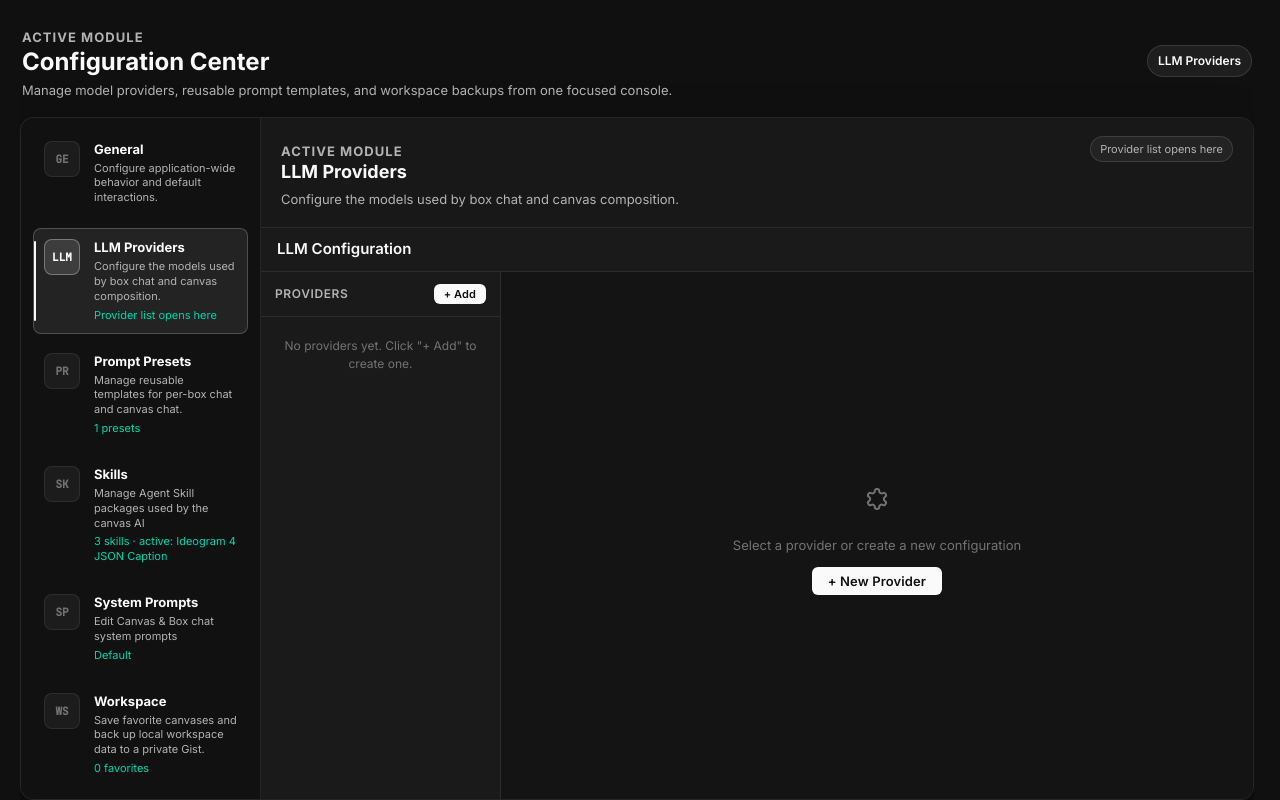
Test case: SettingsPage 配置中心 › 点击 Workspace 模块后展示 Workspace Backup 区域，并在缺少 token 时禁用备份和恢复
Click the button "Workspace".
click(140, 734)  # box [33,682,248,787]
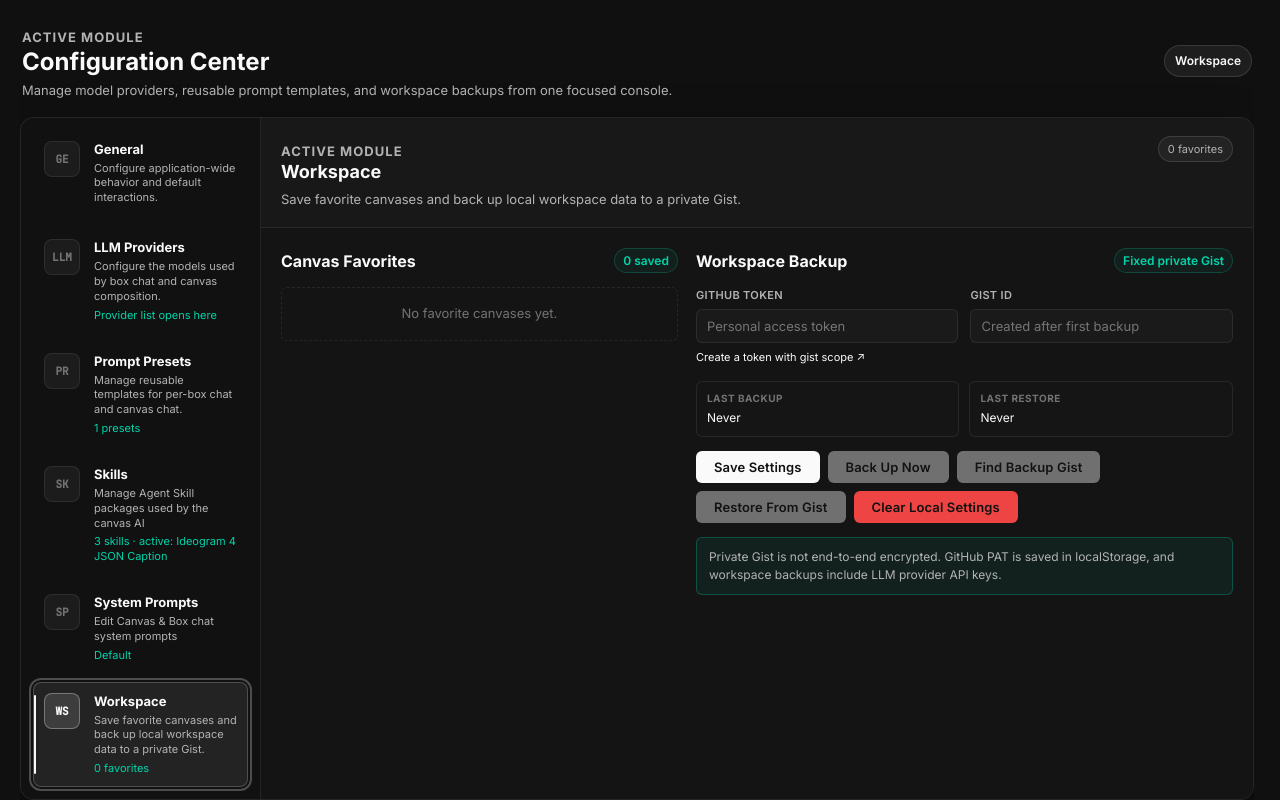
Expected: the heading "Workspace" is shown, [281,161,381,182]
Expected: the button "Back Up Now" is disabled, [828,451,949,483]
Expected: the button "Restore From Gist" is disabled, [696,491,846,523]
